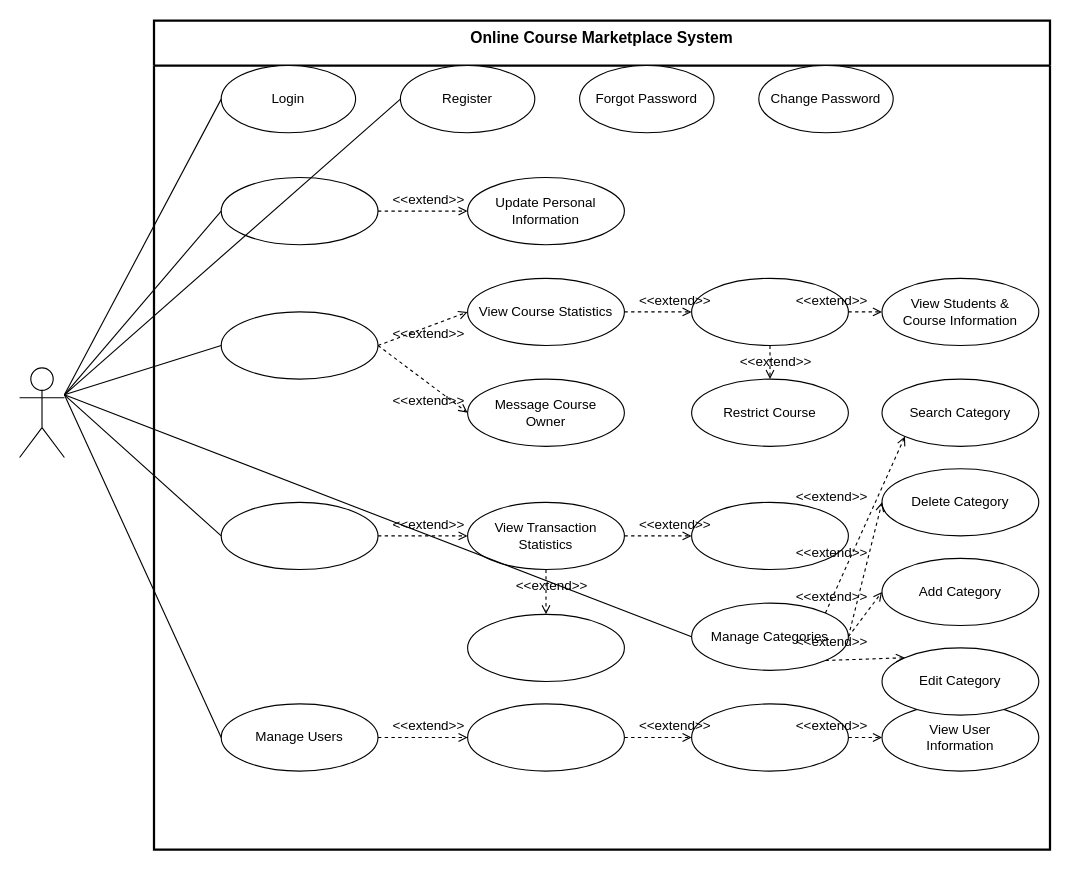
This 1071x869 diagram has some shape labels left out. The box of each missing label's shape, as (x1, y1, x2, y2) in pixels:
Add New Admin: (466, 703, 624, 771)
Admin: (18, 367, 64, 458)
Approve Courses: (690, 277, 848, 346)
Delete User: (690, 703, 848, 771)
Manage Account: (220, 176, 378, 245)
Manage Courses: (220, 311, 378, 379)
Manage Transactions: (220, 501, 378, 570)
Manage Transactions by Course: (690, 501, 848, 570)
Manage Transactions by Student: (466, 613, 624, 682)
